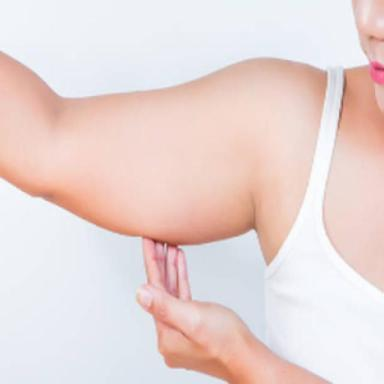normal skin: (0, 53, 326, 263), (137, 239, 328, 384), (325, 0, 384, 291)
